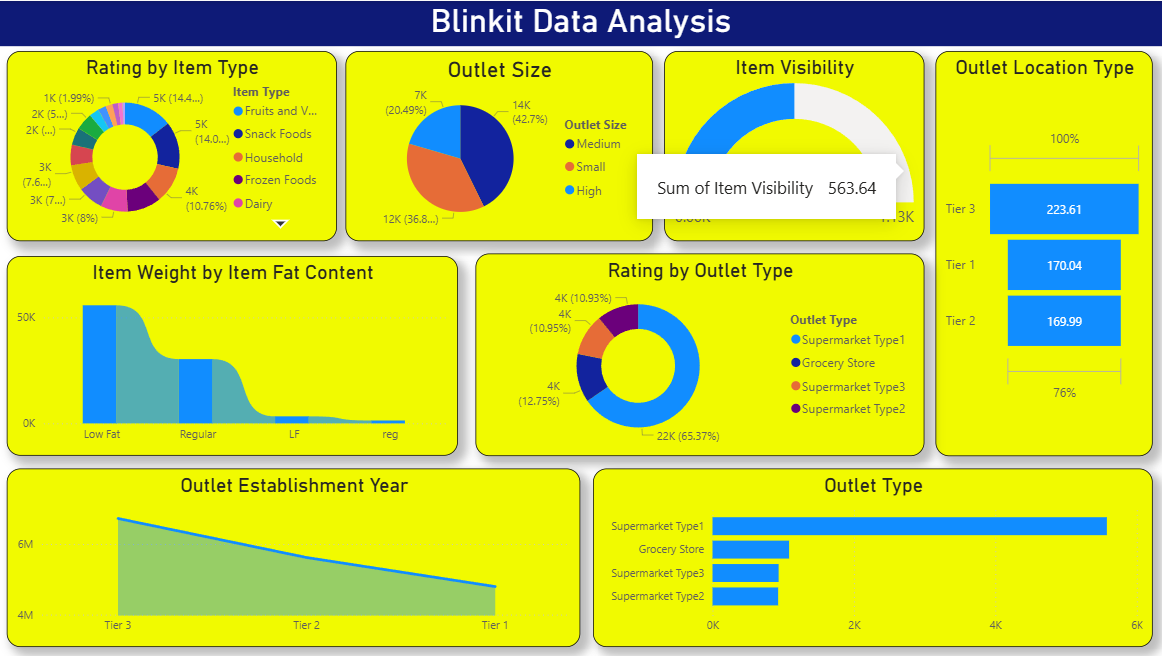

This screenshot's page, from the dashboard's own definition file:
{"tool":"powerbi","page":{"name":"Page 1","canvas":[1280,720],"ordinal":0},"visuals":[{"type":"donutChart","title":" Rating by Item Type","fields":{"Category":["in.Item Type"],"Y":["Sum(in.Rating)"]},"box":[9.6,54.9,362.3,208.6],"z":0},{"type":"textbox","title":"Blinkit Data Analysis","box":[0,0,1280.3,49.4],"z":1000},{"type":"pieChart","title":" Outlet Size","fields":{"Y":["Sum(in.Rating)"],"Category":["in.Outlet Size"]},"box":[381.5,54.9,337.6,208.6],"z":2000},{"type":"gauge","title":"Item Visibility","fields":{"Y":["Sum(in.Item Visibility)"]},"box":[731.4,54.9,285.4,208.6],"z":3000},{"type":"funnel","title":" Outlet Location Type","fields":{"Category":["in.Outlet Location Type"],"Y":["Sum(in.Item Visibility)"]},"box":[1029.2,54.9,238.8,444.6],"z":4000},{"type":"ribbonChart","title":"Item Weight by Item Fat Content","fields":{"Category":["in.Item Fat Content"],"Y":["Sum(in.Item Weight)"]},"box":[9.6,279.9,495.4,219.6],"z":5000},{"type":"donutChart","title":"Rating by Outlet Type","fields":{"Y":["Sum(in.Rating)"],"Category":["in.Outlet Type"]},"box":[524.2,277.2,492.6,222.3],"z":6000},{"type":"areaChart","title":"Outlet Establishment Year","fields":{"Y":["Sum(in.Outlet Establishment Year)"],"Category":["in.Outlet Location Type"]},"box":[9.6,513.2,629.8,196.2],"z":7000},{"type":"clusteredBarChart","title":" Outlet Type","fields":{"Category":["in.Outlet Type"],"Y":["CountNonNull(in.Outlet Location Type)"]},"box":[653.2,513.2,614.8,196.2],"z":8000}]}

Visuals, with their boxes in screenshot pixels (x1, y1, x2, y2), scaled from the page's 1280x720 canvas onto the 1162x656 screenshot:
" Rating by Item Type" donutChart: x1=9, y1=50, x2=338, y2=240
"Blinkit Data Analysis" textbox: x1=0, y1=0, x2=1161, y2=45
" Outlet Size" pieChart: x1=346, y1=50, x2=653, y2=240
"Item Visibility" gauge: x1=664, y1=50, x2=923, y2=240
" Outlet Location Type" funnel: x1=934, y1=50, x2=1151, y2=455
"Item Weight by Item Fat Content" ribbonChart: x1=9, y1=255, x2=458, y2=455
"Rating by Outlet Type" donutChart: x1=476, y1=253, x2=923, y2=455
"Outlet Establishment Year" areaChart: x1=9, y1=468, x2=580, y2=646
" Outlet Type" clusteredBarChart: x1=593, y1=468, x2=1151, y2=646
